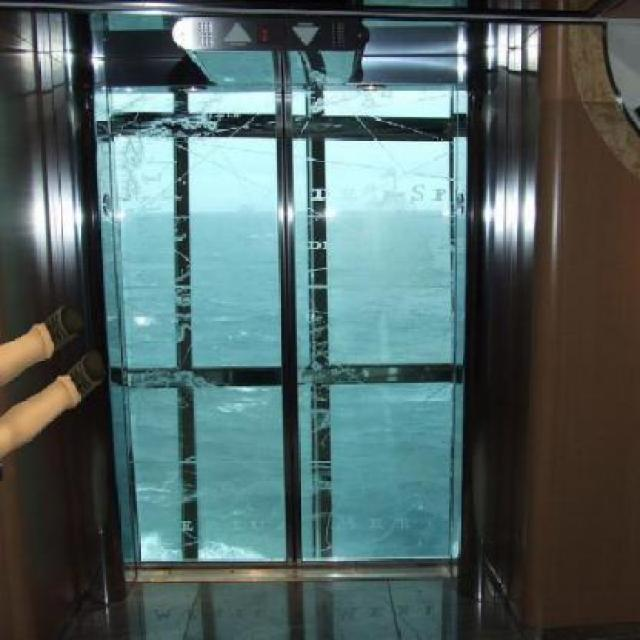Person: (0, 292, 114, 468)
